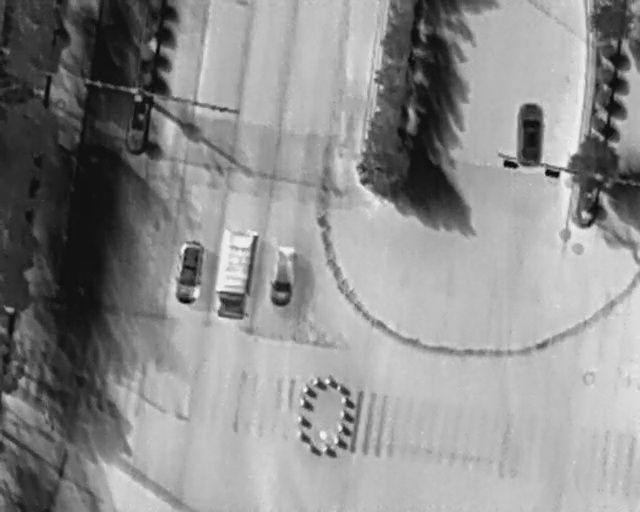Car: (174, 239, 205, 306), (514, 102, 545, 167), (267, 245, 298, 308)
OtherVehicle: (211, 225, 263, 322)
